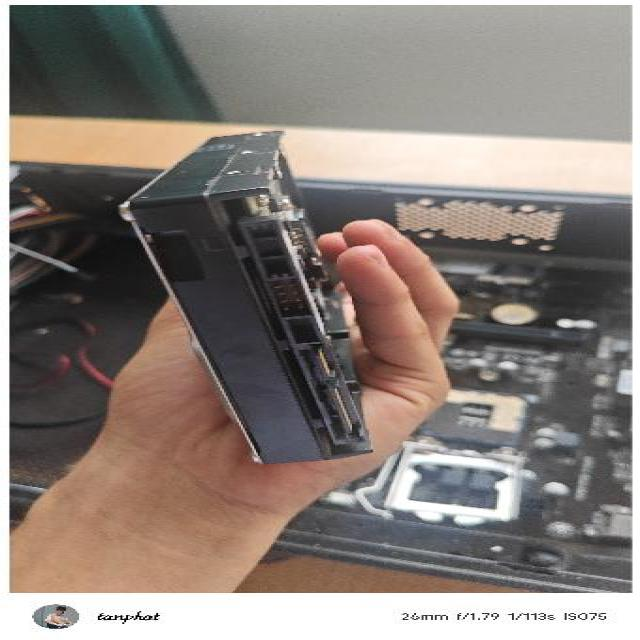DISK: (113, 128, 393, 466)
